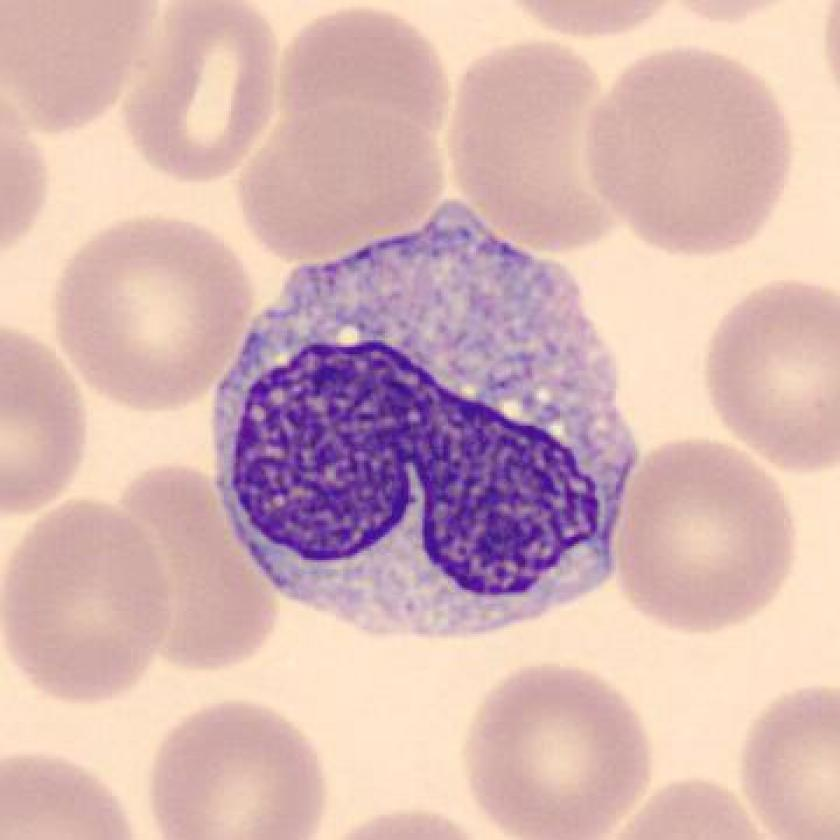monocyte: (199, 195, 664, 663)
